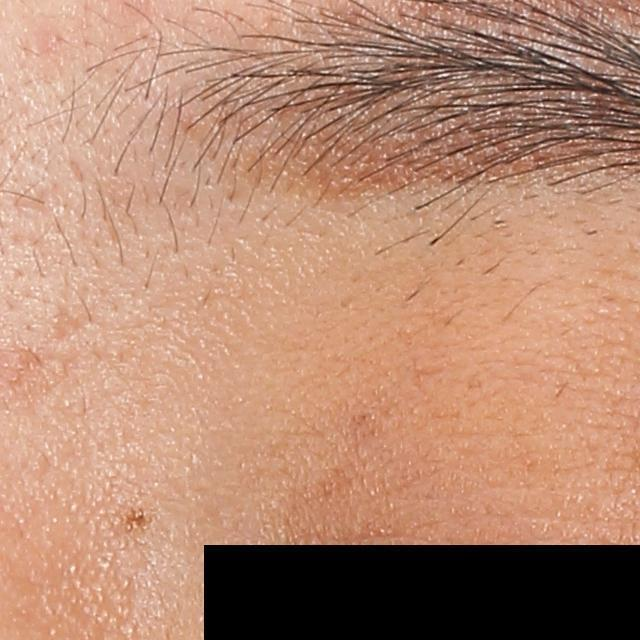atrophic_scar: (50, 298, 85, 342)
nevus: (122, 503, 150, 534)
